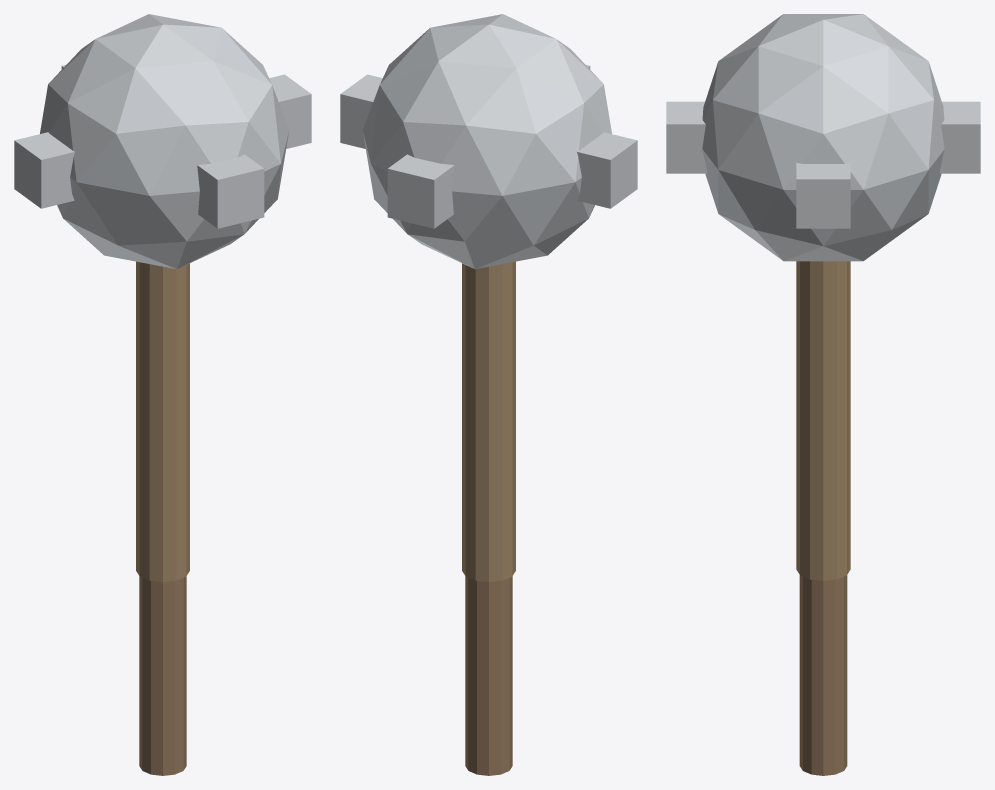
File: wpn_mace.glb
The picture shows the model from 3 angles, left to right: view 1: azimuth 30°, elevation 25°; view 2: azimuth 150°, elevation 25°; view 3: azimuth 270°, elevation 25°; orthographic projection.
Parts seen in each view (by area): view 1: wpn_mace; view 2: wpn_mace; view 3: wpn_mace.
Boxes of the visible parts, box(x1,y1,x2,y2) form: wpn_mace: box(14, 14, 311, 775); wpn_mace: box(340, 14, 637, 775); wpn_mace: box(666, 14, 980, 775).
Bounding box in the file's own units: 0.29 × 0.76 × 0.29.
